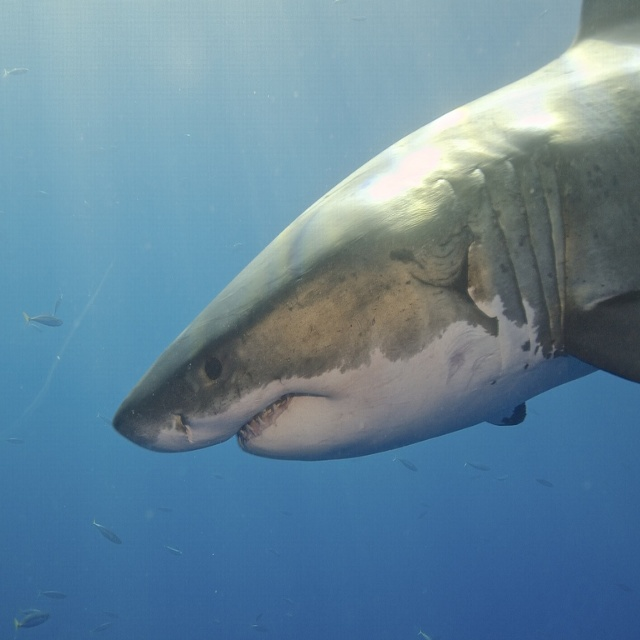Shark: (113, 1, 640, 463)
